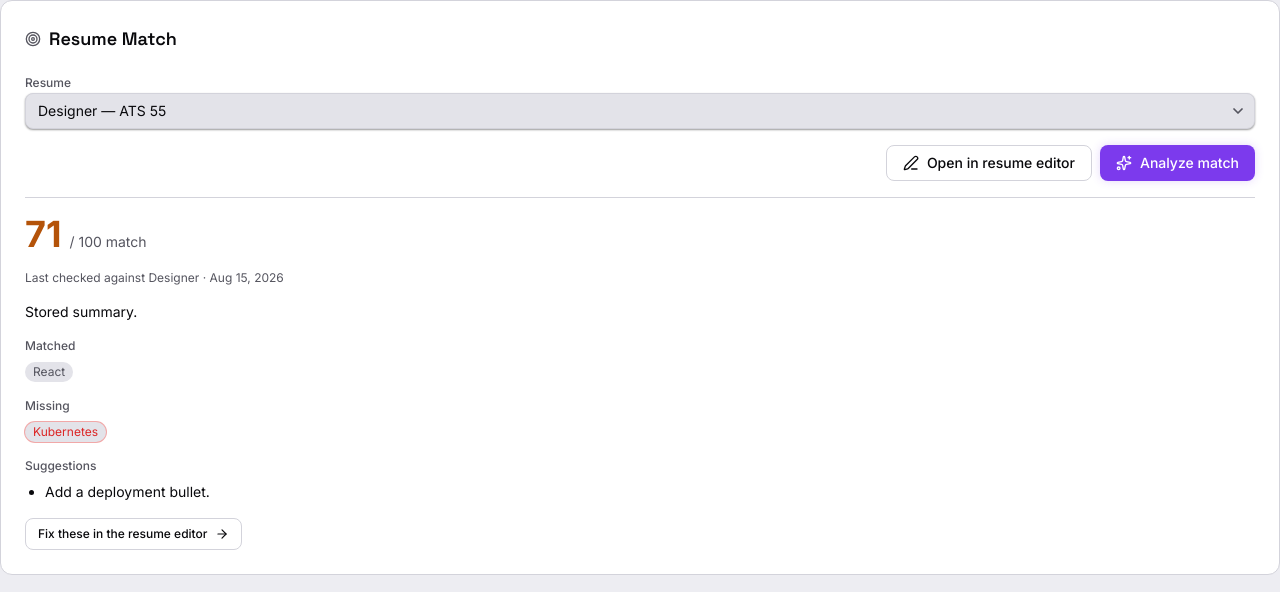
Scenario: job match panel stored result hydration › replaces the stored result and drops its provenance line on a new check
The image size is (1280, 592).
Click the button "Analyze match": (1178, 163) [1100,145,1255,181]
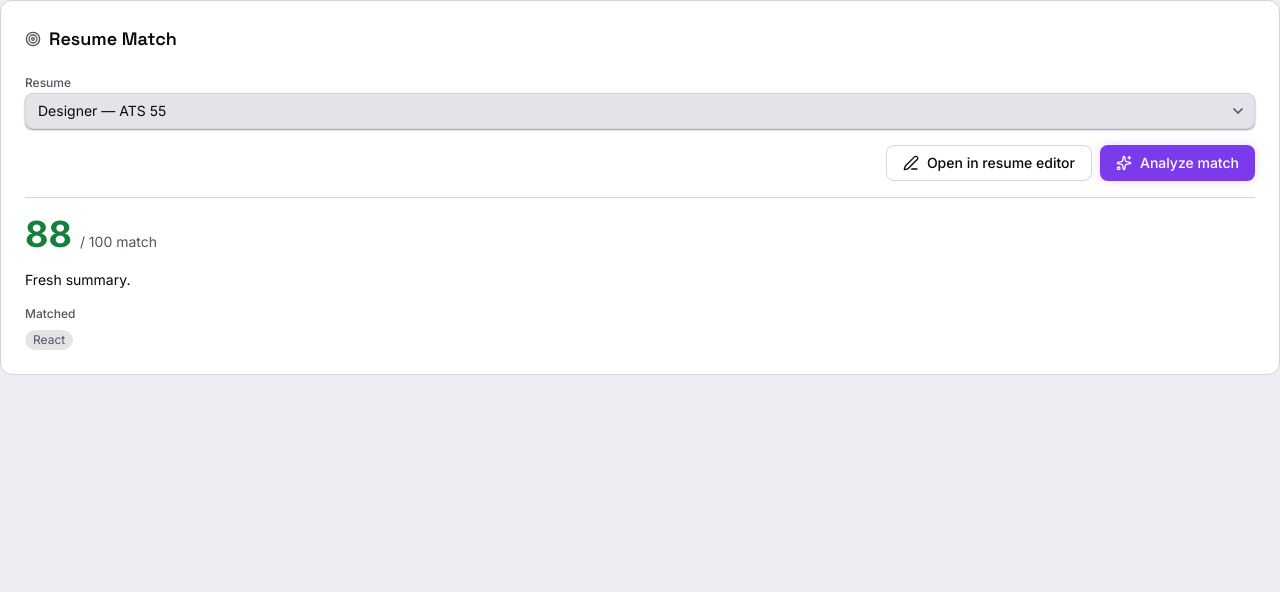
expect the text "Fresh summary." is shown: met, box [25,271,130,288]
expect the text "Stored summary." is gone: met
expect the text "Last checked against" is gone: met
